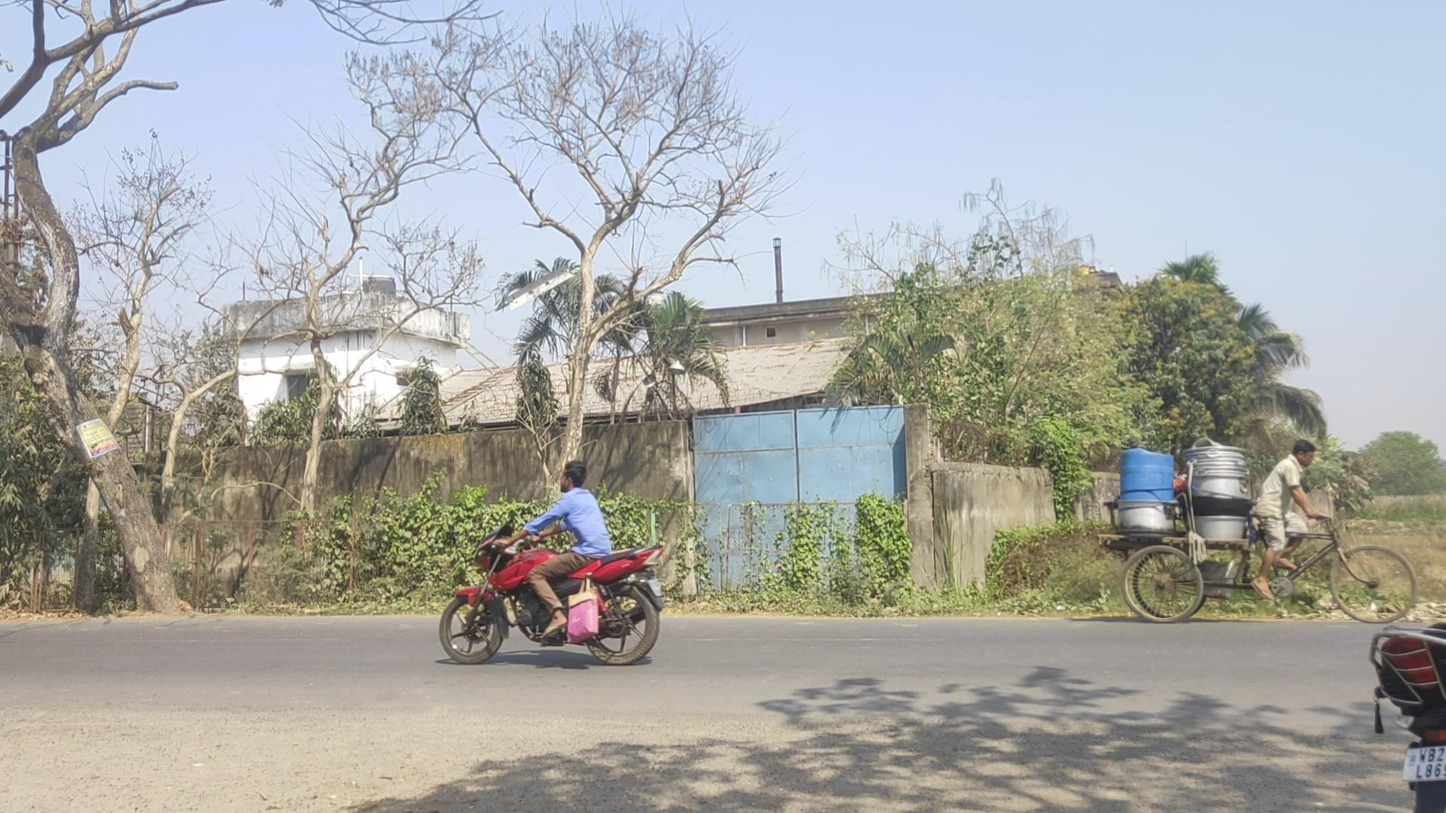bike: (438, 459, 666, 666)
